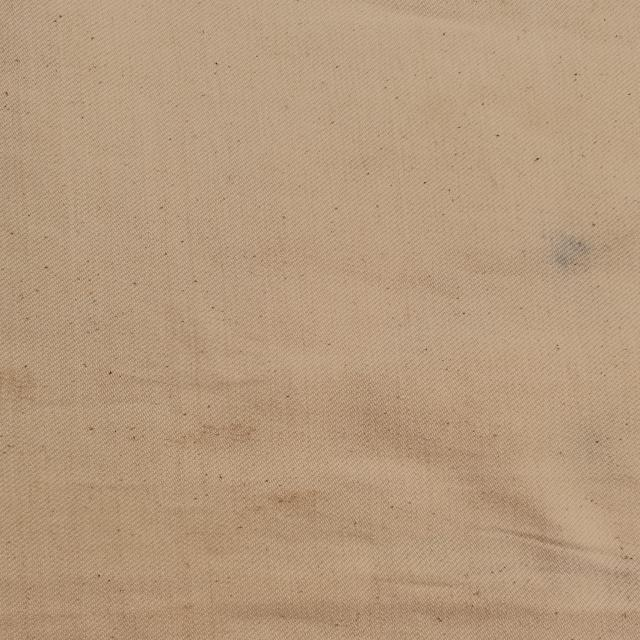taaaches: (532, 226, 614, 280), (162, 420, 272, 450), (0, 364, 48, 404)
